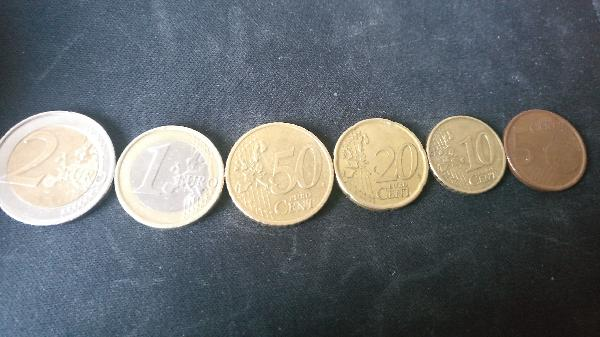Fifty Cent: (225, 122, 337, 227)
Five Cent: (501, 107, 588, 194)
One Euro: (115, 124, 224, 229)
Ten Cent: (425, 115, 505, 193)
Twenty Cent: (333, 119, 432, 209)
Two Euro: (1, 109, 120, 221)
